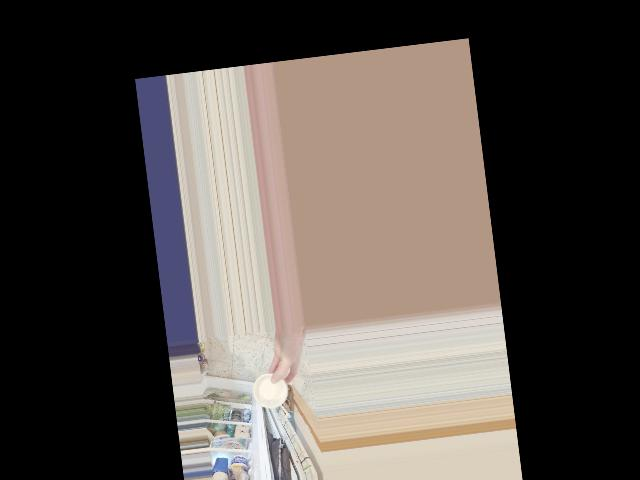cotage: (254, 370, 293, 409)
